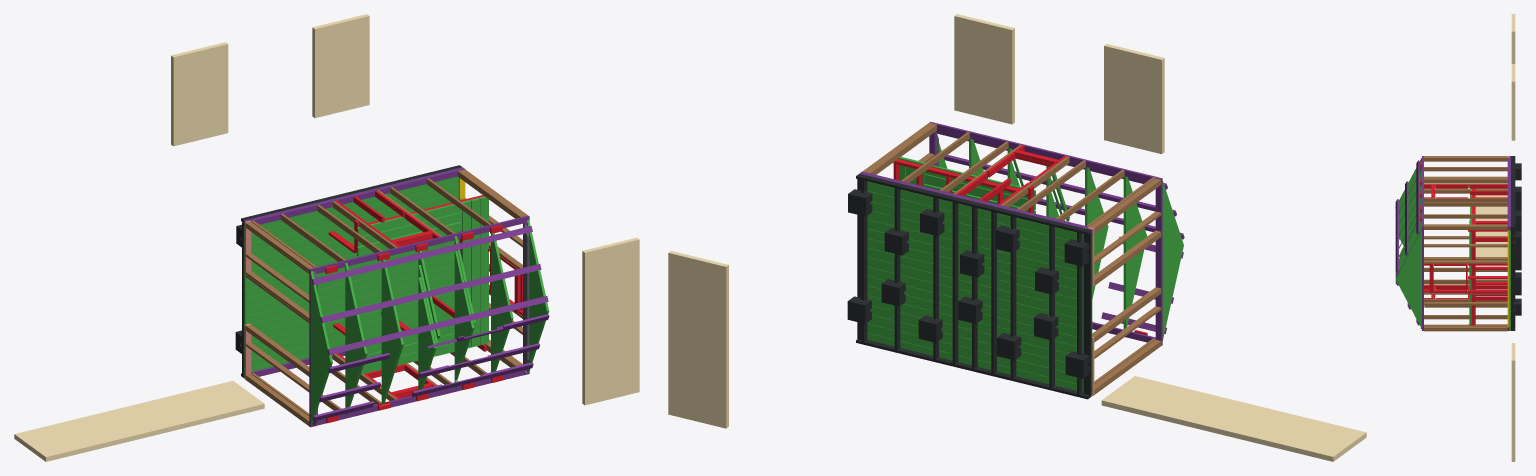
The model's file is tinker.obj.
3 views of the same model, side by side, from view 1: azimuth 30°, elevation 25°; view 2: azimuth 150°, elevation 25°; view 3: azimuth 270°, elevation 25° (orthographic). The views are drawn at different scales.
Parts seen in each view (by area): view 1: group_0_4634441, group_0_16311991, group_0_8273816, group_0_11107152, group_0_15277357, group_0_2829873, group_0_6383466, group_0_15308428; view 2: group_0_16311991, group_0_4634441, group_0_2829873, group_0_11107152, group_0_8273816, group_0_15277357; view 3: group_0_11107152, group_0_15277357, group_0_4634441, group_0_16311991, group_0_2829873, group_0_8273816, group_0_16768282.
Boxes of the visible parts, x1,y1,x2,y2 form: group_0_4634441: (244,176,549,423); group_0_16311991: (14,14,639,461); group_0_8273816: (244,167,549,427); group_0_11107152: (246,169,527,425); group_0_15277357: (325,190,522,423); group_0_2829873: (235,165,461,377); group_0_6383466: (313,224,529,425); group_0_15308428: (244,220,251,379); group_0_16311991: (668,14,1366,461); group_0_4634441: (867,138,1183,396); group_0_2829873: (847,174,1091,399); group_0_11107152: (862,123,1161,394); group_0_8273816: (859,121,1184,345); group_0_15277357: (891,145,1147,335); group_0_11107152: (1424,156,1507,331); group_0_15277357: (1420,161,1507,325); group_0_4634441: (1395,158,1510,330); group_0_16311991: (1475,14,1515,461); group_0_2829873: (1511,156,1521,330); group_0_8273816: (1395,156,1510,330); group_0_16768282: (1507,230,1509,327).
Size of the model in its own units: 411 by 282 by 108.
